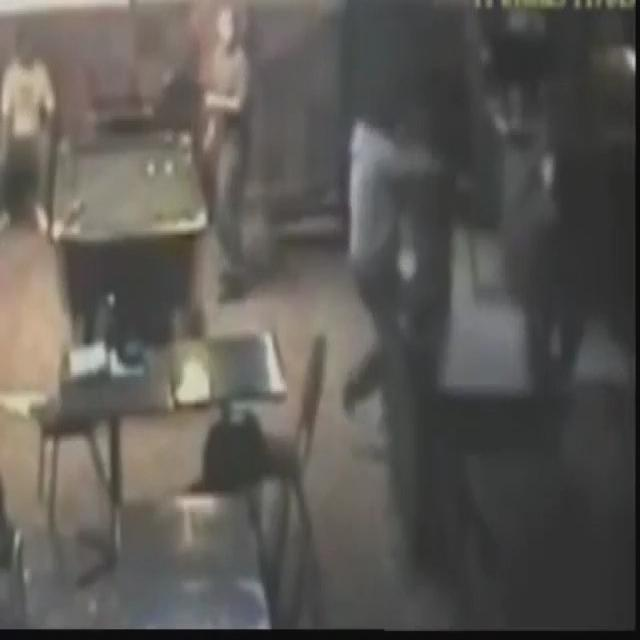fight: (337, 100, 474, 577)
